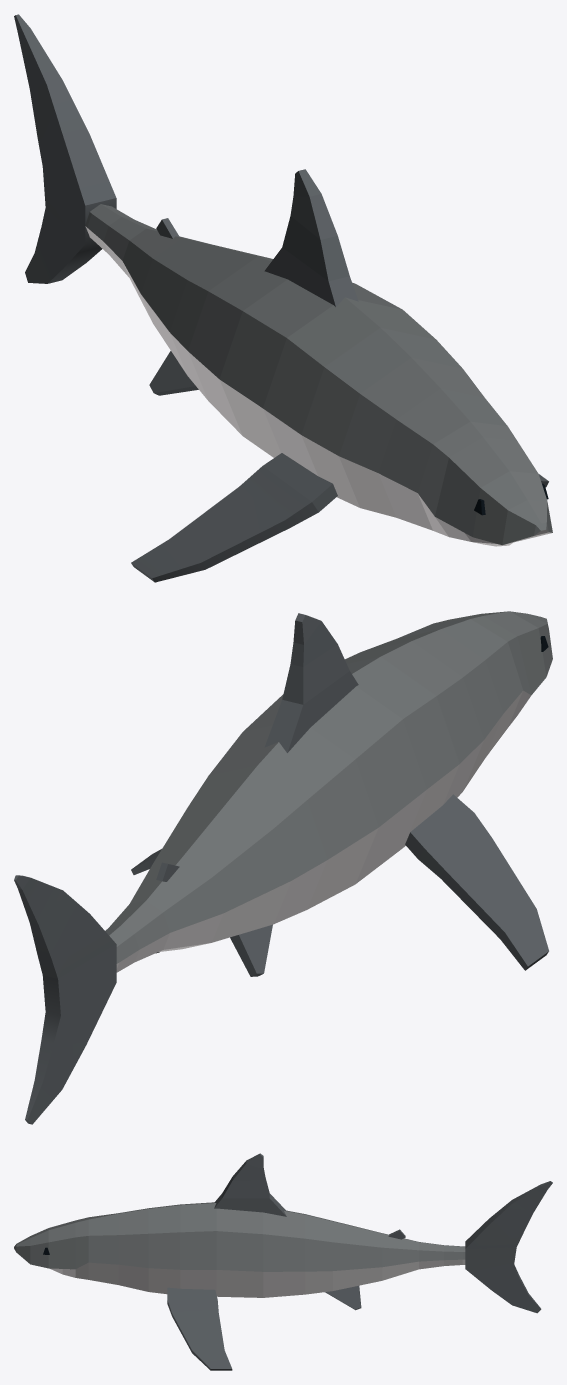
File: Mesh_Shark.obj
3 renders of one model, top to bottom at view 1: azimuth 30°, elevation 25°; view 2: azimuth 150°, elevation 25°; view 3: azimuth 270°, elevation 25°, orthographic. The views are drawn at different scales.
Parts seen in each view (by area): view 1: Geo_Shark; view 2: Geo_Shark; view 3: Geo_Shark.
Boxes of the visible parts, x1=… form: Geo_Shark: x1=14, y1=14, x2=552, y2=582; Geo_Shark: x1=14, y1=611, x2=552, y2=1124; Geo_Shark: x1=14, y1=1153, x2=552, y2=1370.
Bounding box in the file's own units: 76.37 × 60.5 × 176.
1 material, 1 textured.
